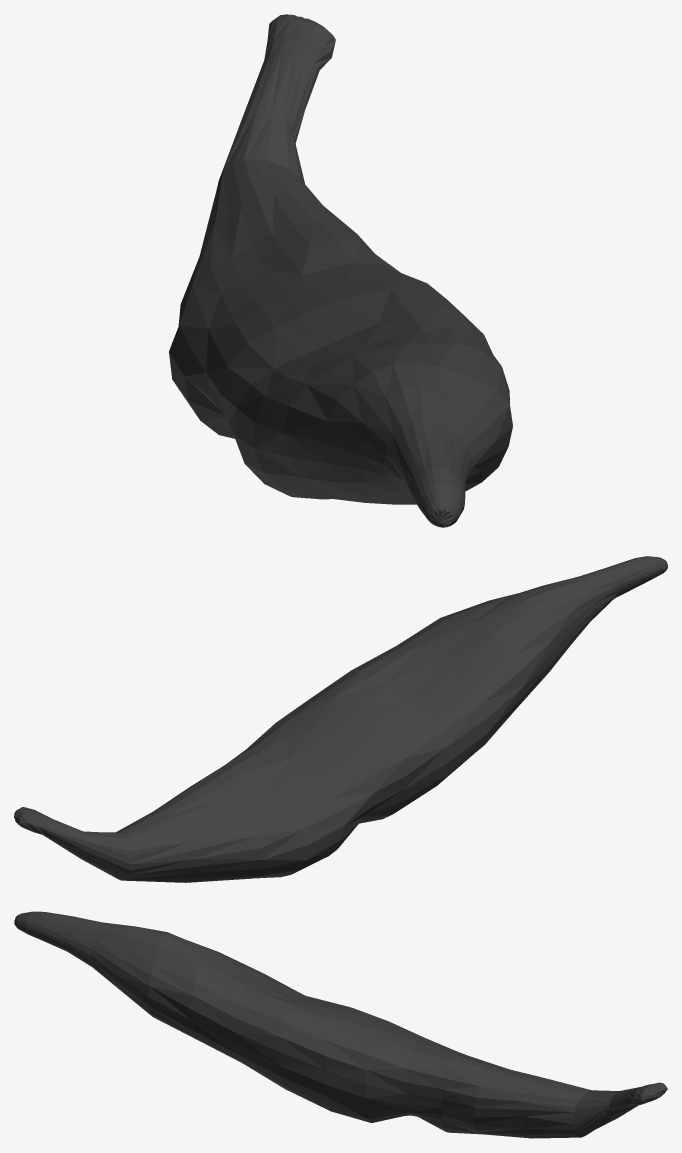
The model's file is TeresMajor_1.glb.
The picture shows the model from 3 angles, top to bottom: view 1: azimuth 30°, elevation 25°; view 2: azimuth 150°, elevation 25°; view 3: azimuth 270°, elevation 25°; orthographic projection. The views are drawn at different scales.
Parts seen in each view (by area): view 1: TeresMajor_1; view 2: TeresMajor_1; view 3: TeresMajor_1.
Part boxes in pixels (x1,y1,x2,y2): TeresMajor_1: (169,14,512,527); TeresMajor_1: (14,556,667,882); TeresMajor_1: (14,911,667,1138).
Size of the model in its own units: 0.0149 by 0.00845 by 0.0319.
1 material, 1 textured.
